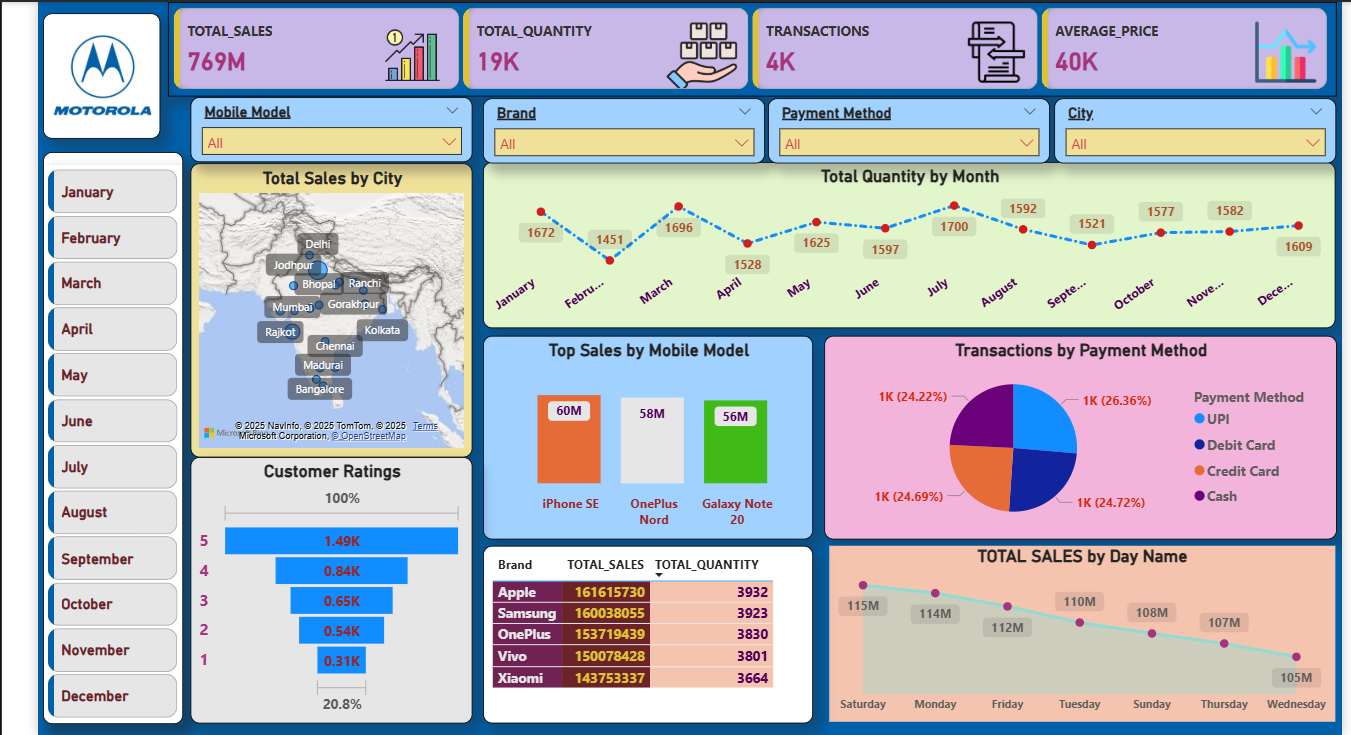

Layout of this report page (visuals, bound fields, positions):
{"tool":"powerbi","page":{"name":"Page 1","canvas":[1280,720],"ordinal":0},"visuals":[{"type":"shape","box":[5.5,11,115.3,123.5],"z":0},{"type":"image","box":[9.6,16.5,107,112.5],"z":1000},{"type":"shape","box":[5.5,146.8,137.2,561.2],"z":2000},{"type":"advancedSlicerVisual","fields":{"Values":["SALES_DATA.DATE.Variation.Date Hierarchy.Month"]},"box":[5.5,159.2,137.2,548.9],"z":3000},{"type":"cardVisual","fields":{"Data":["SALES_DATA.TOTAL_SALES","SALES_DATA.TOTAL_QUANTTY","SALES_DATA.TRANSACTIONS","SALES_DATA.AVERAGE_PRICE"]},"box":[127.1,0,1147.1,92.9],"z":4000},{"type":"map","title":"Total Sales by City","fields":{"Category":["SALES_DATA.City"],"Size":["SALES_DATA.TOTAL_SALES"]},"box":[150,158.6,277.1,288.6],"z":5000},{"type":"lineChart","title":"Total Quantity by Month","fields":{"Y":["Sum(SALES_DATA.Units Sold)"],"Category":["SALES_DATA.DATE.Variation.Date Hierarchy.Month","SALES_DATA.DATE.Variation.Date Hierarchy.Day"]},"box":[437.1,157.1,837.1,162.9],"z":6000},{"type":"clusteredColumnChart","title":"Top Sales by Mobile Model","fields":{"Category":["SALES_DATA.Mobile Model"],"Y":["SALES_DATA.TOTAL_SALES"]},"box":[437.1,327.1,324.3,200],"z":7000},{"type":"pieChart","title":"Transactions by Payment Method","fields":{"Category":["SALES_DATA.Payment Method"],"Y":["SALES_DATA.TRANSACTIONS"]},"box":[771.4,327.1,502.9,200],"z":8000},{"type":"funnel","title":" Customer Ratings","fields":{"Category":["SALES_DATA.Customer Ratings"],"Y":["CountNonNull(SALES_DATA.Customer Ratings)"]},"box":[150,447.1,277.1,261.4],"z":9000},{"type":"areaChart","title":"TOTAL SALES by Day Name","fields":{"Category":["SALES_DATA.Day Name"],"Y":["SALES_DATA.TOTAL_SALES"]},"box":[777.1,534.3,497.1,172.9],"z":10000},{"type":"tableEx","fields":{"Values":["SALES_DATA.Brand","SALES_DATA.TOTAL_SALES","SALES_DATA.TOTAL_QUANTITY"]},"box":[437.1,534.3,324.3,174.3],"z":11000},{"type":"slicer","fields":{"Values":["SALES_DATA.Mobile Model"]},"box":[150,92.9,277.1,64.3],"z":12000},{"type":"slicer","fields":{"Values":["SALES_DATA.Brand"]},"box":[437.1,94.3,277.1,64.3],"z":13000},{"type":"slicer","fields":{"Values":["SALES_DATA.Payment Method"]},"box":[717.1,94.3,277.1,64.3],"z":14000},{"type":"slicer","fields":{"Values":["SALES_DATA.City"]},"box":[997.1,94.3,277.1,64.3],"z":15000}]}

Visuals, with their boxes in screenshot pixels (x1, y1, x2, y2):
shape: <box>41,15,157,139</box>
image: <box>45,20,153,133</box>
shape: <box>41,151,179,717</box>
advancedSlicerVisual - SALES_DATA.DATE.Variation.Date Hierarchy.Month: <box>41,164,179,717</box>
cardVisual - SALES_DATA.TOTAL_SALES x SALES_DATA.TOTAL_QUANTTY: <box>163,4,1318,97</box>
"Total Sales by City" map: <box>186,163,465,454</box>
"Total Quantity by Month" lineChart: <box>475,162,1318,326</box>
"Top Sales by Mobile Model" clusteredColumnChart: <box>475,333,802,534</box>
"Transactions by Payment Method" pieChart: <box>812,333,1319,534</box>
" Customer Ratings" funnel: <box>186,454,465,717</box>
"TOTAL SALES by Day Name" areaChart: <box>818,542,1318,716</box>
tableEx - SALES_DATA.Brand x SALES_DATA.TOTAL_SALES: <box>475,542,802,717</box>
slicer - SALES_DATA.Mobile Model: <box>186,97,465,162</box>
slicer - SALES_DATA.Brand: <box>475,98,754,163</box>
slicer - SALES_DATA.Payment Method: <box>757,98,1036,163</box>
slicer - SALES_DATA.City: <box>1039,98,1318,163</box>
